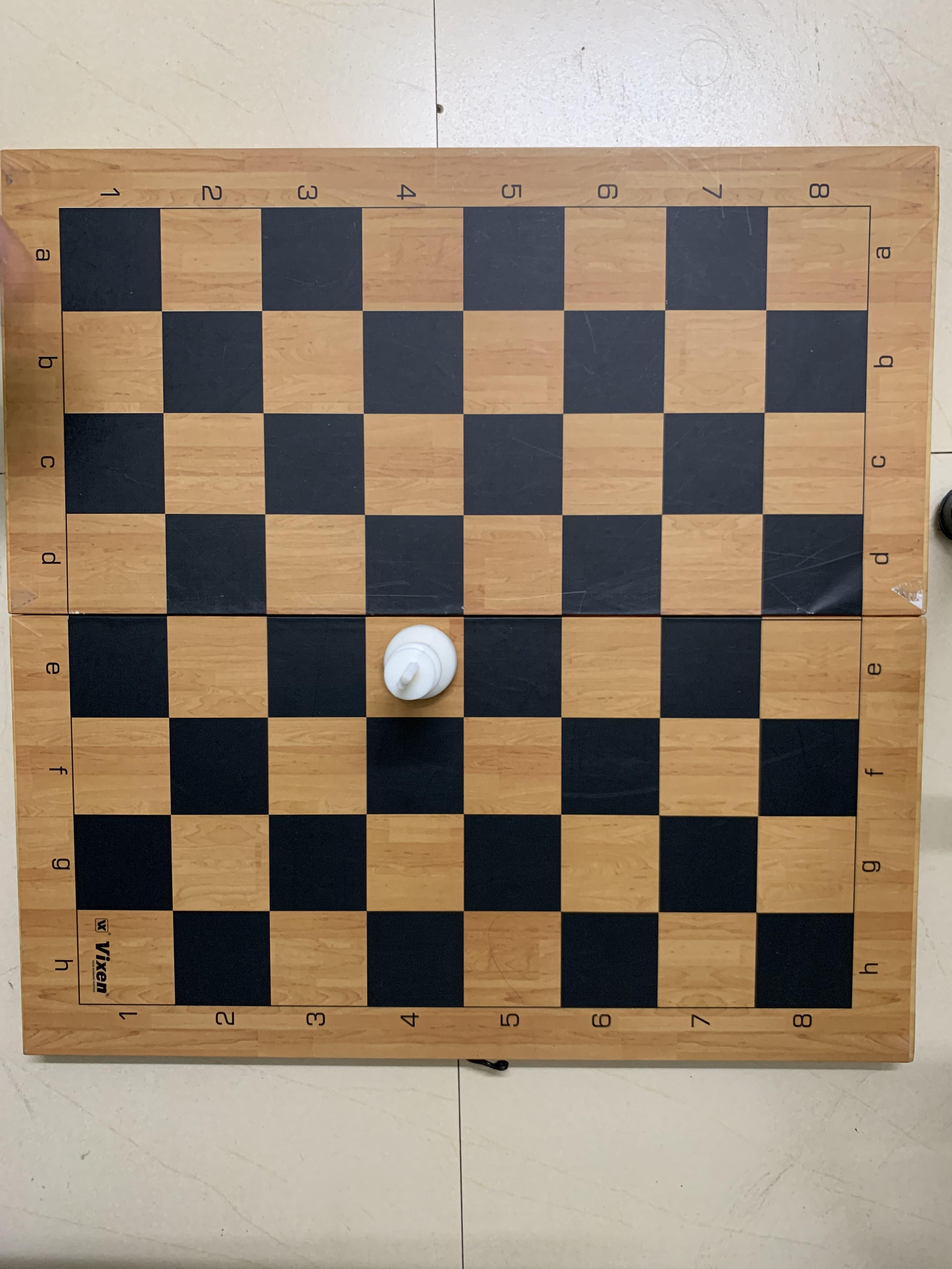white_king: (361, 615, 463, 720)
